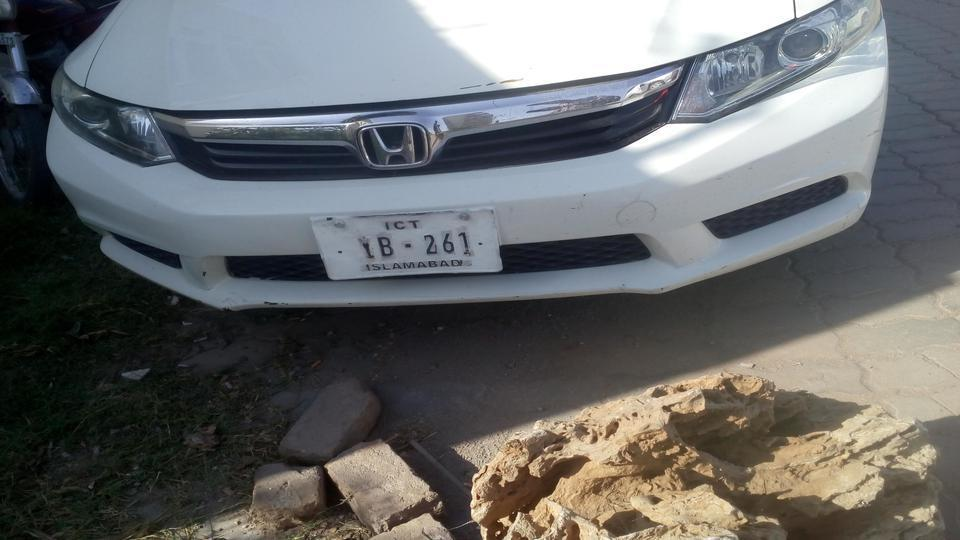NumberPlate: (310, 214, 503, 288)
